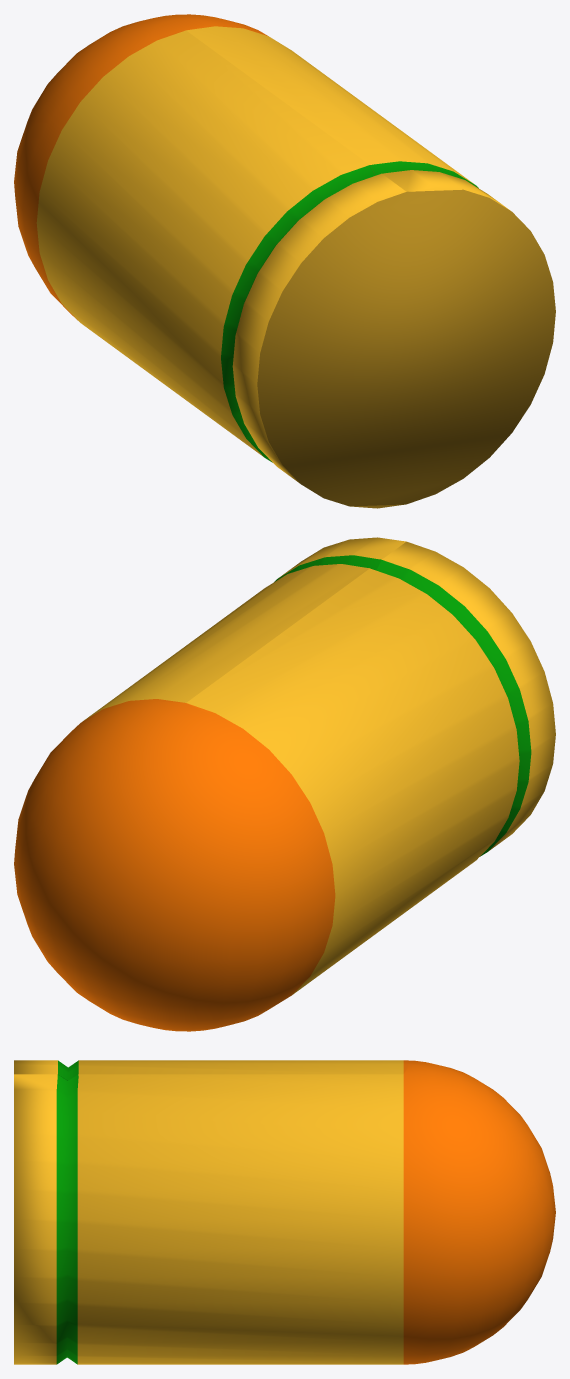
File: bullet.glb
The picture shows the model from 3 angles, top to bottom: view 1: azimuth 30°, elevation 25°; view 2: azimuth 150°, elevation 25°; view 3: azimuth 270°, elevation 25°; orthographic projection. The views are drawn at different scales.
Visible parts, largest first — view 1: Sphere; view 2: Sphere; view 3: Sphere.
Boxes of the visible parts, bbox=[...] form: Sphere: bbox=[14, 14, 555, 508]; Sphere: bbox=[14, 537, 555, 1031]; Sphere: bbox=[14, 1060, 555, 1364].
Size of the model in its own units: 0.5 by 0.5 by 0.8894.
